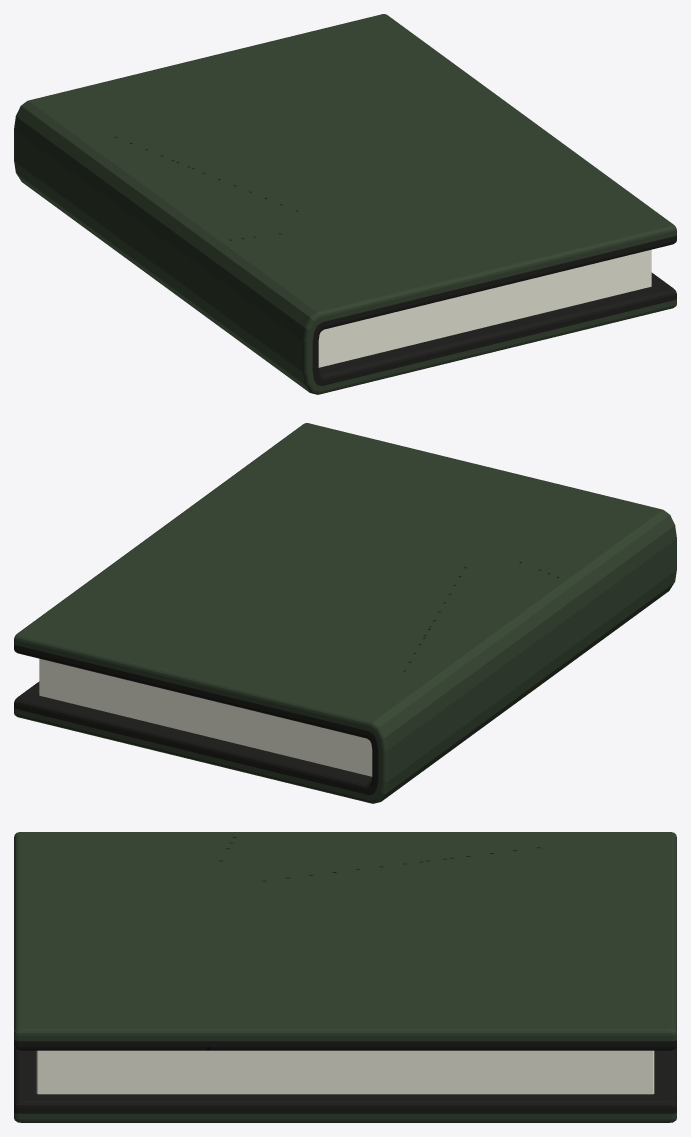
The model's file is livroVerde.fbx.
The picture shows the model from 3 angles, top to bottom: view 1: azimuth 30°, elevation 25°; view 2: azimuth 150°, elevation 25°; view 3: azimuth 270°, elevation 25°; orthographic projection. The views are drawn at different scales.
Visible parts, largest first — view 1: Livro1; view 2: Livro1; view 3: Livro1.
Part boxes in pixels (left/top/right/bottom): Livro1: left=14, top=14, right=676, bottom=394; Livro1: left=14, top=423, right=676, bottom=803; Livro1: left=14, top=832, right=676, bottom=1122.
Bounding box in the file's own units: 5.8 × 27.42 × 37.25.
